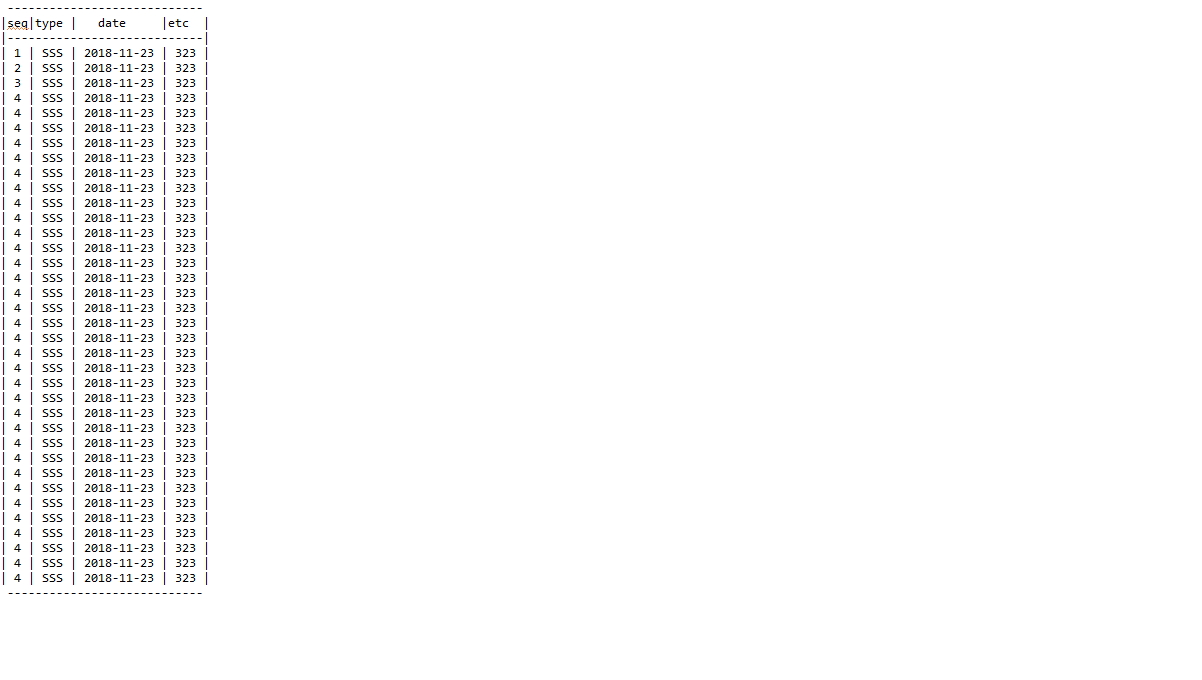table: (1, 5, 210, 600)
